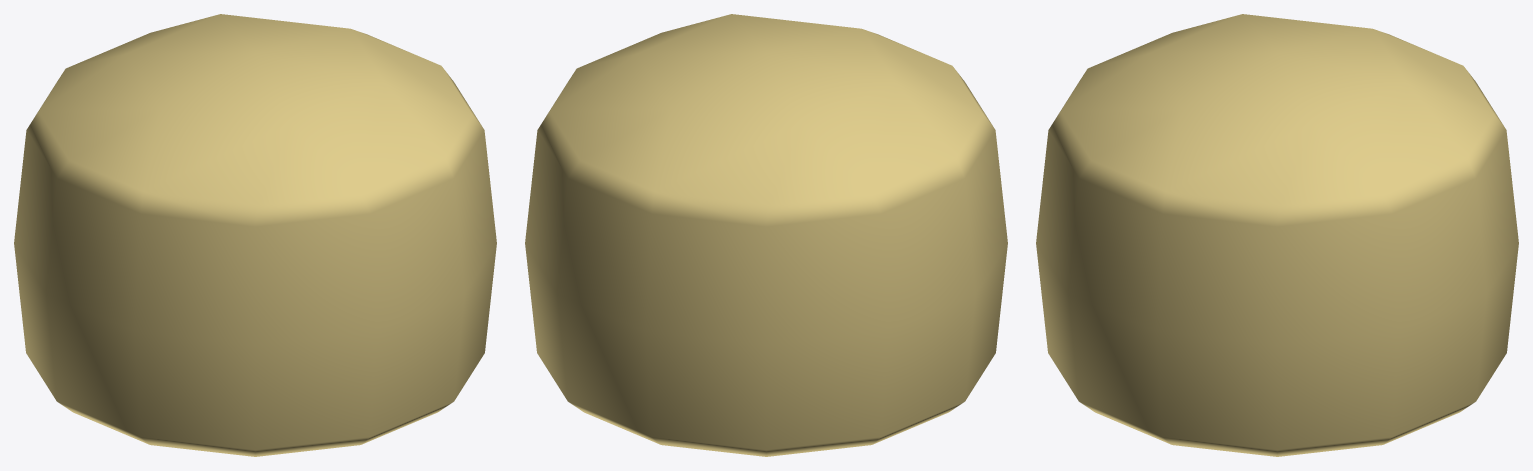
File: chair_004.fbx
3 renders of one model, left to right at view 1: azimuth 30°, elevation 25°; view 2: azimuth 150°, elevation 25°; view 3: azimuth 270°, elevation 25°, orthographic.
Parts seen in each view (by area): view 1: chair_004; view 2: chair_004; view 3: chair_004.
Boxes of the visible parts, left/top/right/bottom form: chair_004: left=14, top=14, right=496, bottom=456; chair_004: left=525, top=14, right=1007, bottom=456; chair_004: left=1036, top=14, right=1518, bottom=456.
Bounding box in the file's own units: 70.97 × 70.97 × 50.99.
